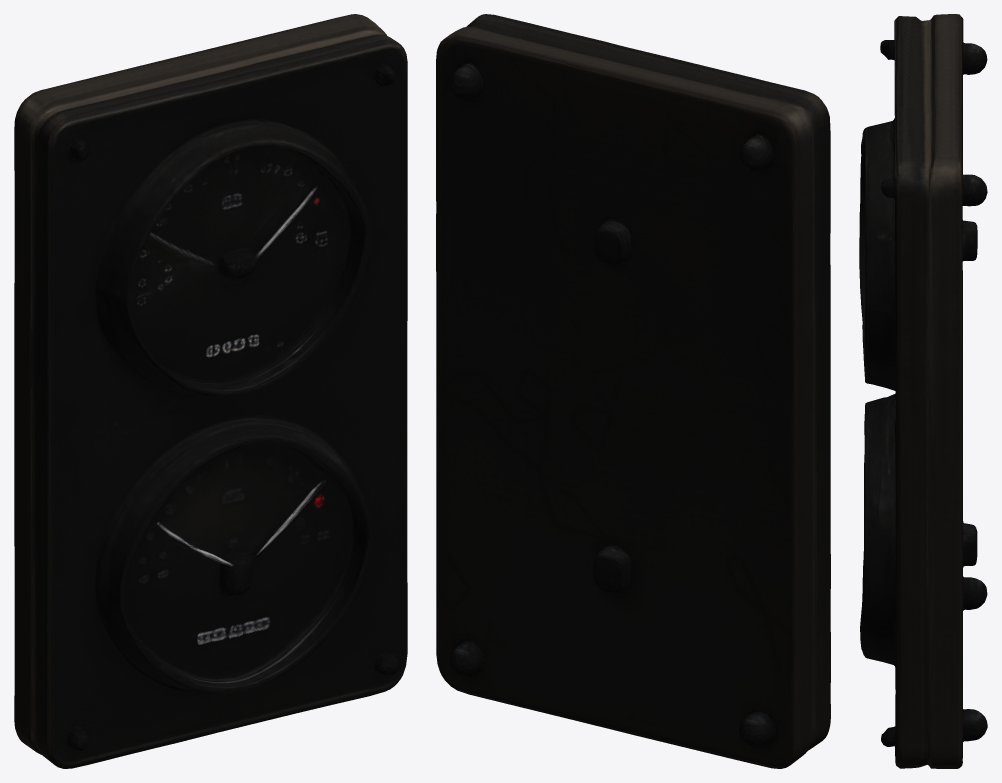
File: boat_meters.glb
3 renders of one model, left to right at view 1: azimuth 30°, elevation 25°; view 2: azimuth 150°, elevation 25°; view 3: azimuth 270°, elevation 25°, orthographic. The views are drawn at different scales.
Parts seen in each view (by area): view 1: world; view 2: world; view 3: world.
Boxes of the visible parts, x1=… form: world: x1=14, y1=14, x2=407, y2=768; world: x1=436, y1=14, x2=830, y2=768; world: x1=859, y1=14, x2=987, y2=768.
Bounding box in the file's own units: 0.5775 × 1 × 0.1906.
1 material, 1 textured.
